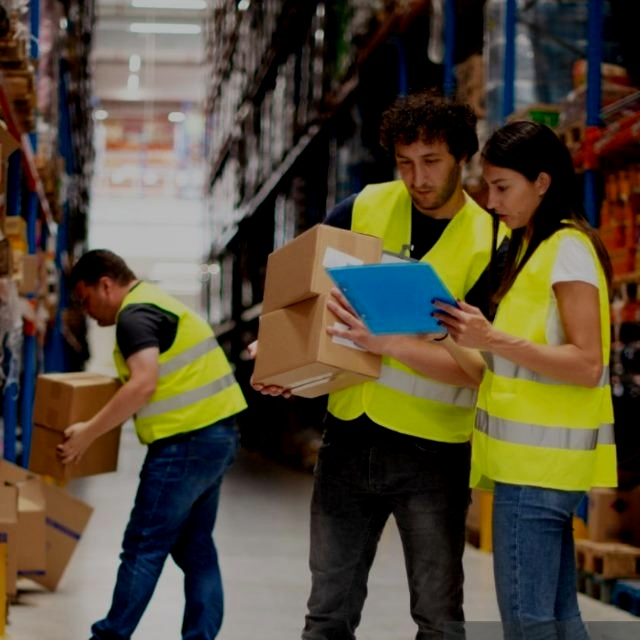Con_Chaleco: (481, 228, 624, 492), (112, 291, 241, 437)
Sin_Casco_Mascarrilla: (480, 120, 567, 231)
